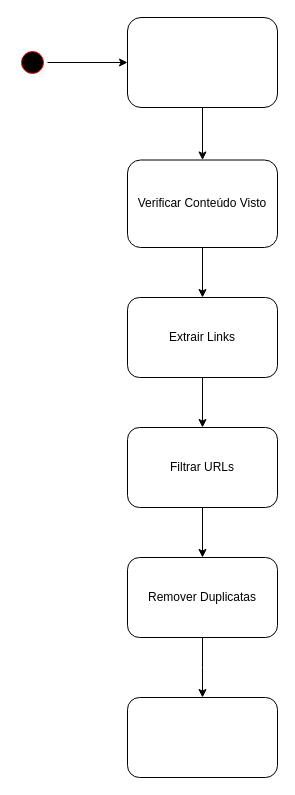
Image size: 295x795. Some labels were removed from this diagram. The box of each missing label's shape, as (x1, y1, x2, y2) in pixels:
Armazenar Conteúdo Indexado: (126, 696, 278, 778)
Receber Conteúdo: (126, 16, 278, 108)
